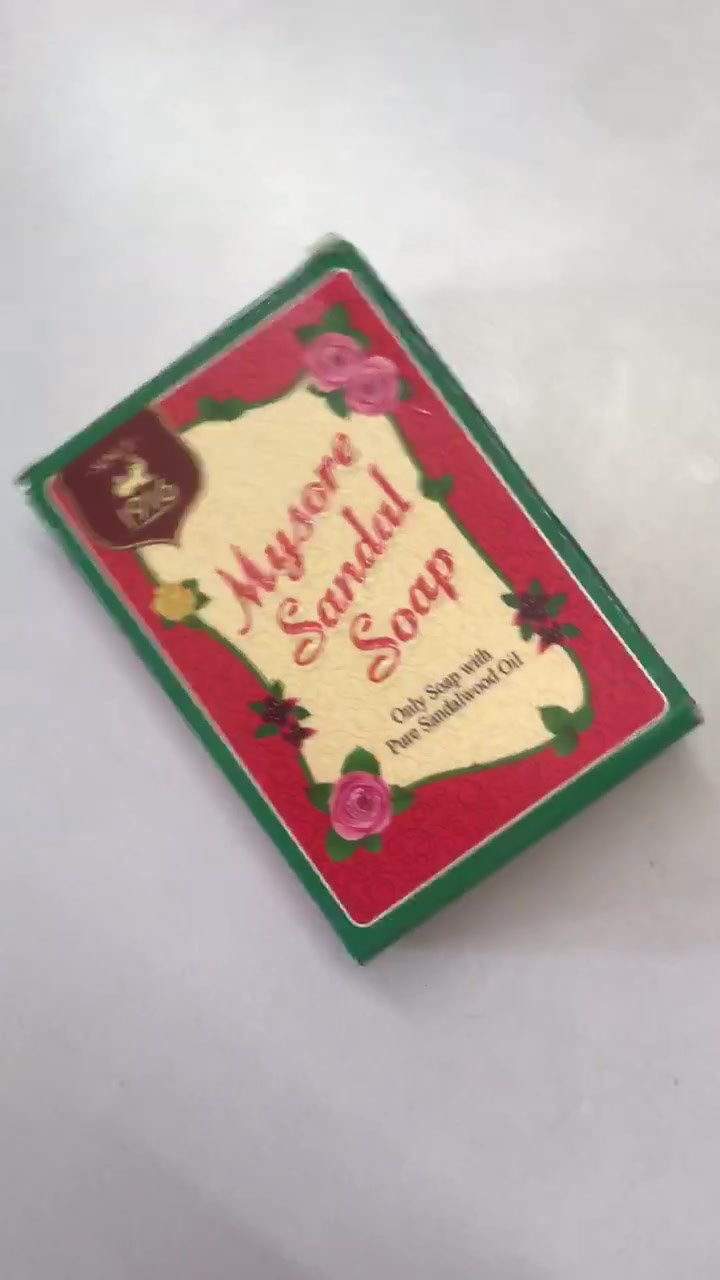mysore sandal soap: (21, 255, 702, 967)
